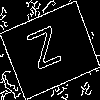Z: (25, 25, 67, 79)
